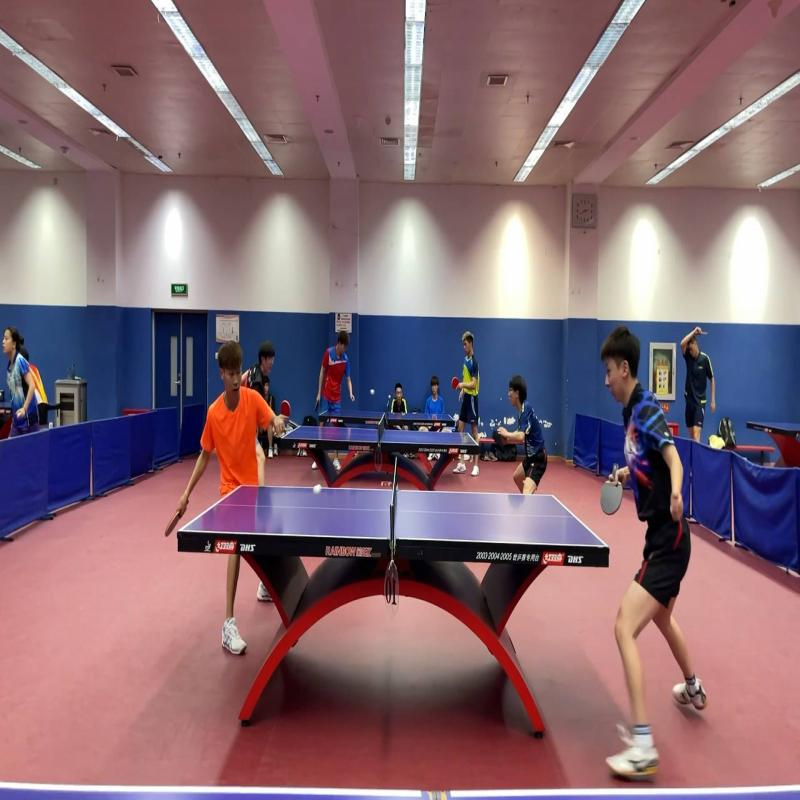bats: (161, 496, 191, 548)
